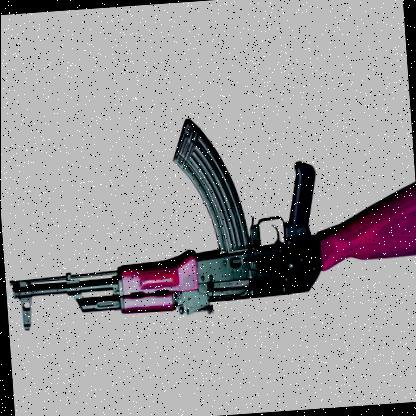rifle: (8, 97, 416, 360)
